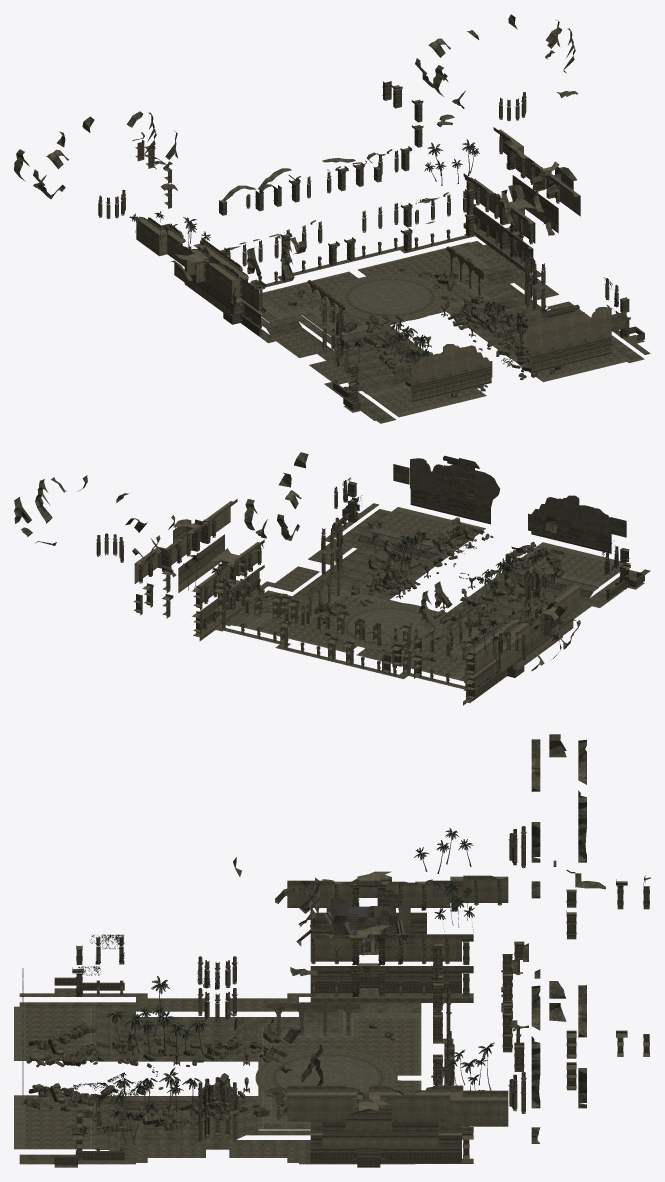
The model's file is map6.fbx.
3 views of the same model, one above another, from view 1: azimuth 30°, elevation 25°; view 2: azimuth 150°, elevation 25°; view 3: azimuth 270°, elevation 25° (orthographic). The views are drawn at different scales.
Parts seen in each view (by area): view 1: 0009_yukaShape7, 0002_bace3_Shape, 0000_polySurfaceShape340894, 0001_polySurfaceShape340895, 0005_bace3_Shape, 0006_bace3_Shape, 0003_bace3_Shape; view 2: 0009_yukaShape7, 0002_bace3_Shape, 0000_polySurfaceShape340894, 0006_bace3_Shape, 0005_bace3_Shape, 0001_polySurfaceShape340895, 0003_bace3_Shape, 0004_bace3_Shape; view 3: 0009_yukaShape7, 0000_polySurfaceShape340894, 0002_bace3_Shape, 0005_bace3_Shape, 0006_bace3_Shape, 0003_bace3_Shape, 0004_bace3_Shape.
Part boxes in pixels (box(x1,y1,x2,y2)): 0009_yukaShape7: box(259, 223, 650, 423); 0002_bace3_Shape: box(14, 14, 644, 410); 0000_polySurfaceShape340894: box(98, 92, 618, 372); 0001_polySurfaceShape340895: box(411, 304, 611, 402); 0005_bace3_Shape: box(129, 134, 627, 402); 0006_bace3_Shape: box(204, 246, 626, 384); 0003_bace3_Shape: box(367, 273, 537, 397); 0009_yukaShape7: box(193, 503, 650, 703); 0002_bace3_Shape: box(14, 452, 644, 700); 0000_polySurfaceShape340894: box(96, 480, 618, 705); 0006_bace3_Shape: box(307, 458, 626, 631); 0005_bace3_Shape: box(148, 477, 623, 661); 0001_polySurfaceShape340895: box(410, 455, 611, 553); 0003_bace3_Shape: box(321, 527, 564, 623); 0004_bace3_Shape: box(360, 524, 534, 618); 0009_yukaShape7: box(14, 988, 473, 1167); 0000_polySurfaceShape340894: box(95, 826, 526, 1167); 0002_bace3_Shape: box(22, 734, 650, 1165); 0005_bace3_Shape: box(28, 828, 494, 1155); 0006_bace3_Shape: box(267, 889, 410, 1096); 0003_bace3_Shape: box(28, 1026, 287, 1126); 0004_bace3_Shape: box(32, 1036, 287, 1123).
Bounding box in the file's own units: 272 × 81.12 × 219.
